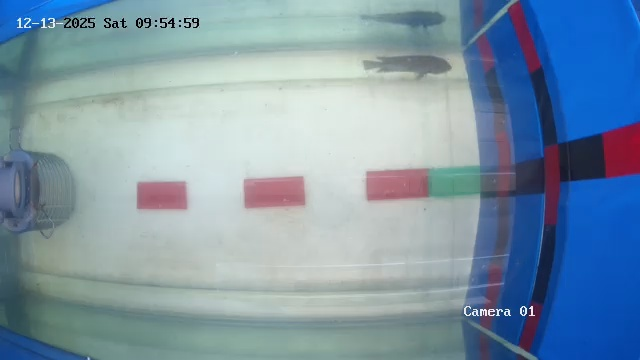fish: (356, 40, 458, 91)
